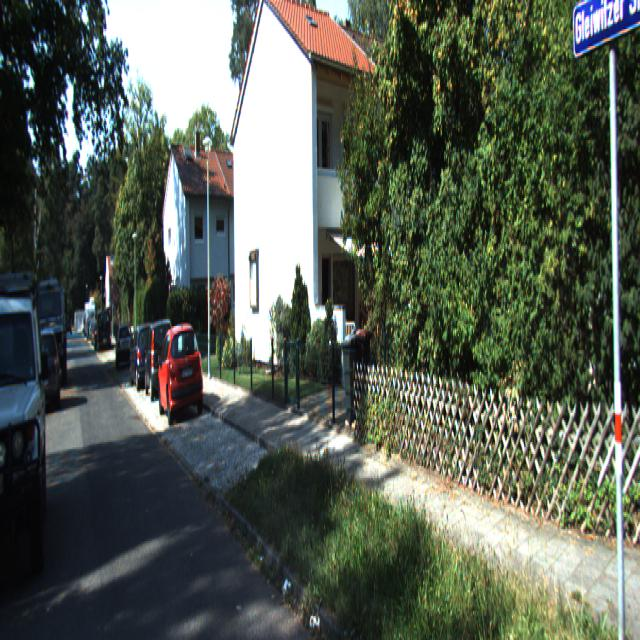Car: (0, 259, 45, 599), (154, 318, 204, 428), (32, 277, 65, 383), (28, 327, 61, 417), (140, 321, 173, 403), (125, 322, 156, 393), (115, 322, 132, 370)
